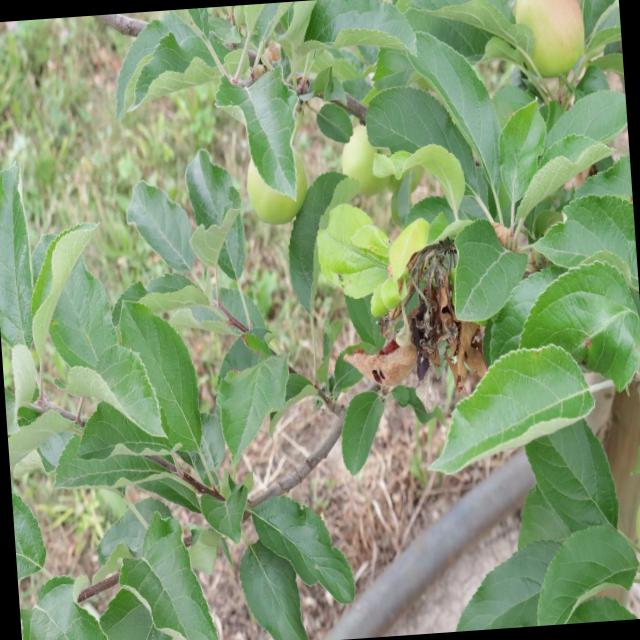-FireBlight-: (348, 316, 487, 399)
